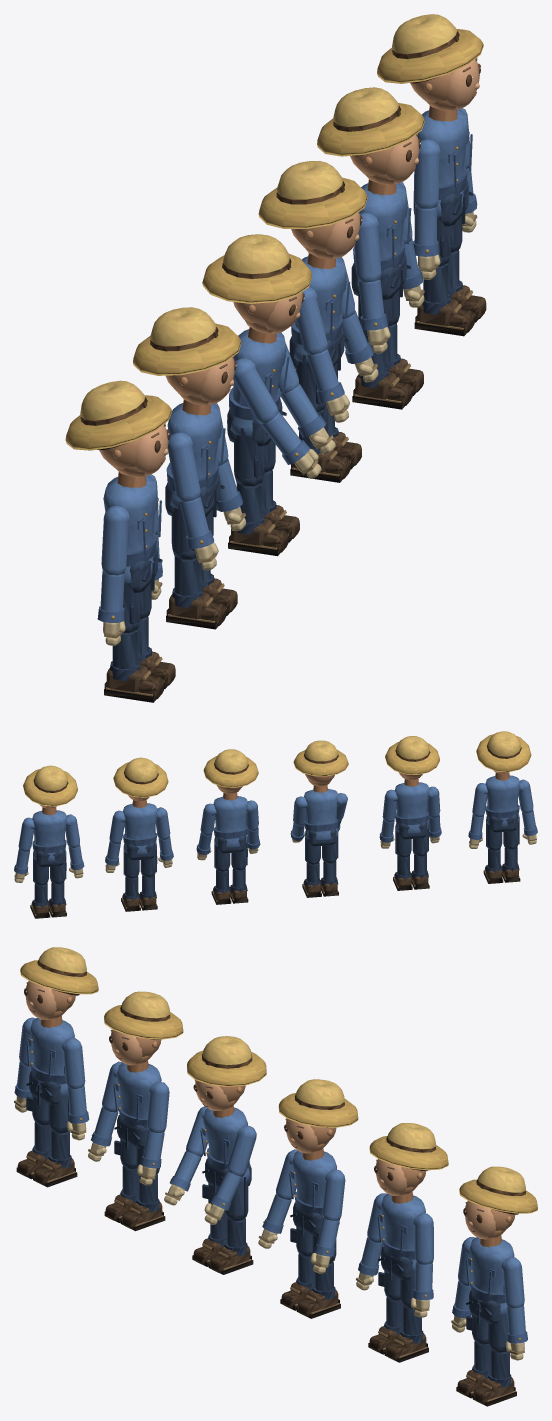
File: ba-inspect-front-after.glb
The picture shows the model from 3 angles, top to bottom: view 1: azimuth 30°, elevation 25°; view 2: azimuth 150°, elevation 25°; view 3: azimuth 270°, elevation 25°; orthographic projection. The views are drawn at different scales.
Visible parts, largest first — view 1: strawHat (×6), denimJacketTorso (×6), rightShin (×6), head (×6), rightUpperArm (×6), rightLowerArm (×6), leftShin (×6), leftLowerArm (×3), trouserHips (×3), rightThigh (×2); view 2: strawHat (×6), denimJacketTorso (×6), leftShin (×6), rightShin (×6), leftUpperArm (×6), rightUpperArm (×6), trouserHips (×6), leftThigh (×6), rightThigh (×6), leftLowerArm (×5), rightLowerArm (×5), head; view 3: strawHat (×6), denimJacketTorso (×6), leftShin (×6), head (×6), rightShin (×6), leftUpperArm (×6), leftLowerArm (×6), trouserHips (×5), rightLowerArm (×4), rightUpperArm (×4), leftThigh (×3).
Part boxes in pixels (bbox=[...]): strawHat (×6): bbox=[65, 14, 483, 450]; denimJacketTorso (×6): bbox=[103, 105, 472, 583]; rightShin (×6): bbox=[104, 263, 474, 702]; head (×6): bbox=[97, 58, 480, 477]; rightUpperArm (×6): bbox=[101, 139, 440, 575]; rightLowerArm (×6): bbox=[97, 205, 438, 622]; leftShin (×6): bbox=[137, 250, 486, 689]; leftLowerArm (×3): bbox=[216, 310, 373, 511]; trouserHips (×3): bbox=[128, 179, 473, 593]; rightThigh (×2): bbox=[171, 428, 264, 559]; strawHat (×6): bbox=[23, 731, 531, 806]; denimJacketTorso (×6): bbox=[32, 772, 519, 861]; leftShin (×6): bbox=[30, 848, 503, 918]; rightShin (×6): bbox=[48, 847, 520, 917]; leftUpperArm (×6): bbox=[18, 783, 487, 851]; rightUpperArm (×6): bbox=[65, 779, 533, 847]; trouserHips (×6): bbox=[35, 814, 518, 867]; leftThigh (×6): bbox=[33, 819, 502, 885]; rightThigh (×6): bbox=[50, 817, 519, 884]; leftLowerArm (×5): bbox=[14, 815, 483, 874]; rightLowerArm (×5): bbox=[68, 810, 537, 869]; head: bbox=[305, 774, 334, 786]; strawHat (×6): bbox=[20, 947, 537, 1213]; denimJacketTorso (×6): bbox=[26, 1015, 514, 1315]; leftShin (×6): bbox=[33, 1130, 516, 1406]; head (×6): bbox=[24, 981, 518, 1239]; rightShin (×6): bbox=[16, 1122, 490, 1398]; leftUpperArm (×6): bbox=[61, 1038, 524, 1308]; leftLowerArm (×6): bbox=[67, 1086, 527, 1343]; trouserHips (×5): bbox=[26, 1071, 501, 1324]; rightLowerArm (×4): bbox=[91, 1107, 383, 1275]; rightUpperArm (×4): bbox=[102, 1061, 386, 1242]; leftThigh (×3): bbox=[48, 1095, 508, 1352].
Size of what is drawn, in the model's own units: 6.06 by 2.42 by 5.2.
